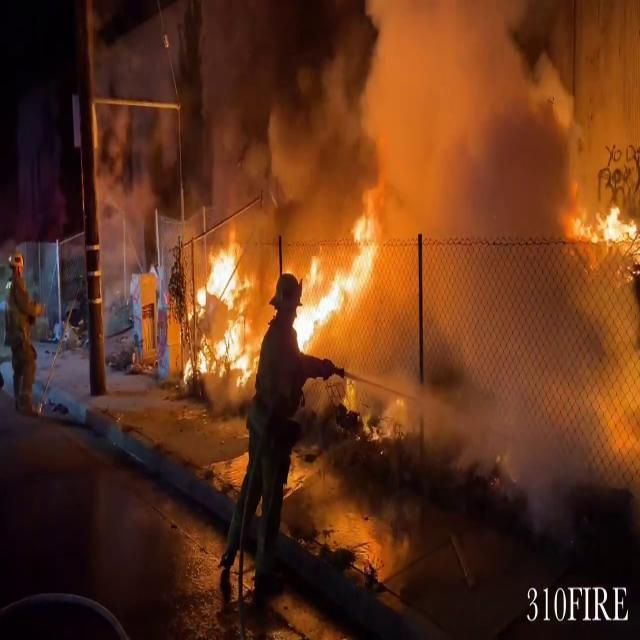Fire: (289, 215, 372, 356), (188, 235, 252, 378), (574, 191, 636, 253)
Smoke: (362, 0, 640, 513), (118, 0, 431, 229)
